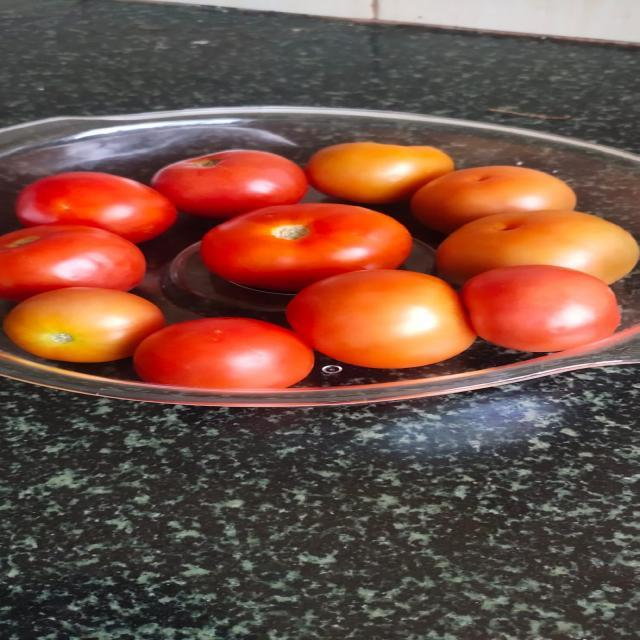Tomato: (286, 270, 476, 369), (200, 203, 411, 291), (436, 210, 640, 285), (461, 265, 621, 352), (133, 318, 312, 389), (2, 287, 163, 363), (14, 172, 174, 242), (0, 225, 144, 302), (411, 166, 574, 233), (149, 149, 306, 218), (305, 142, 454, 203)
